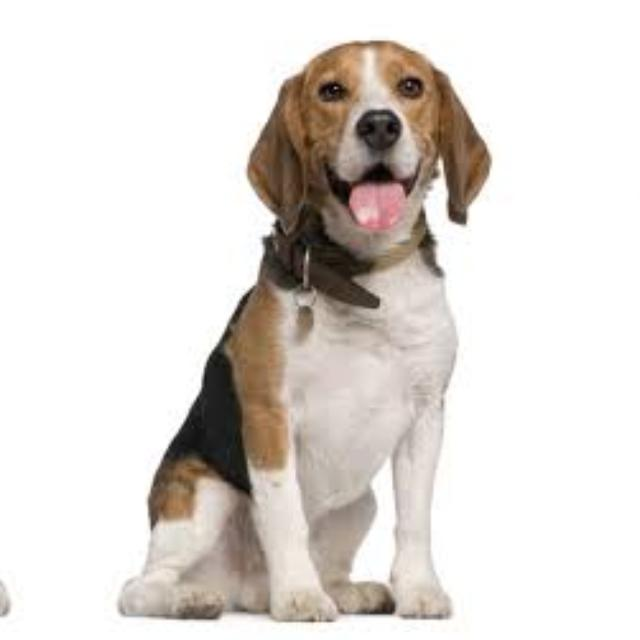dog: (120, 14, 528, 640), (622, 14, 640, 640), (0, 14, 6, 640)
